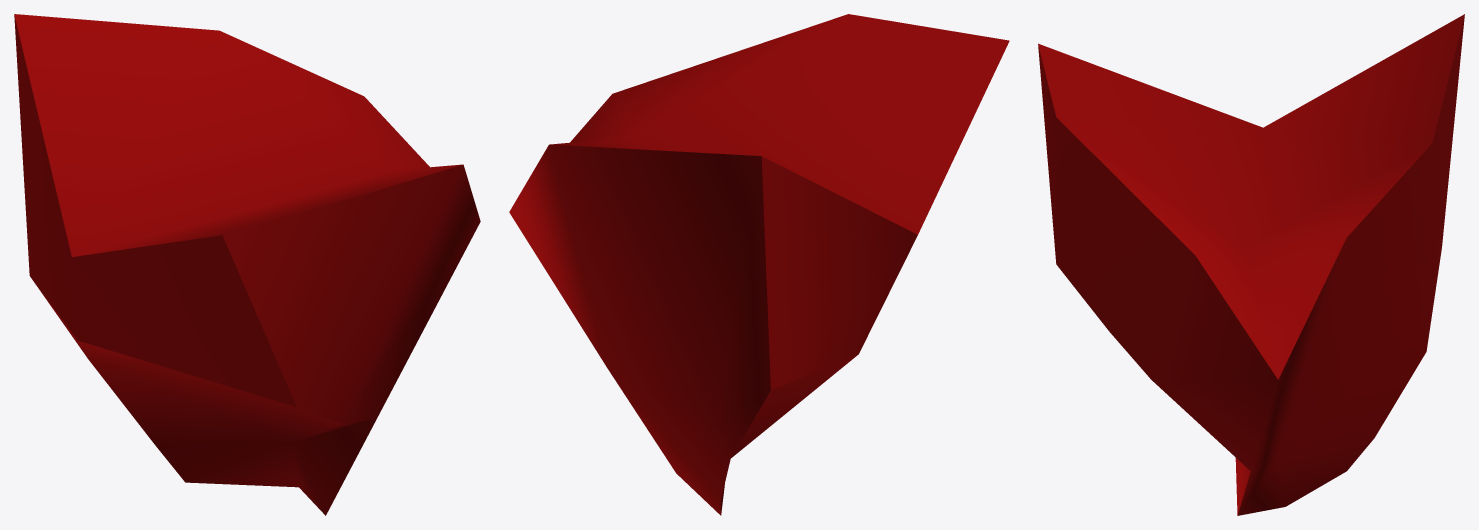
Rendered from ArmorCrystalChunks_AmorCrystalChunk_Large_E.gltf.
3 views of the same model, side by side, from view 1: azimuth 30°, elevation 25°; view 2: azimuth 150°, elevation 25°; view 3: azimuth 270°, elevation 25° (orthographic). The views are drawn at different scales.
Parts seen in each view (by area): view 1: ArmorCrystalChunks_AmorCrystalChunk_Large_E; view 2: ArmorCrystalChunks_AmorCrystalChunk_Large_E; view 3: ArmorCrystalChunks_AmorCrystalChunk_Large_E.
Part boxes in pixels (box(x1,y1,x2,y2)): ArmorCrystalChunks_AmorCrystalChunk_Large_E: box(14, 14, 480, 515); ArmorCrystalChunks_AmorCrystalChunk_Large_E: box(509, 14, 1009, 515); ArmorCrystalChunks_AmorCrystalChunk_Large_E: box(1038, 14, 1464, 515).
Size of the model in its own units: 0.1673 by 0.1751 by 0.162.
